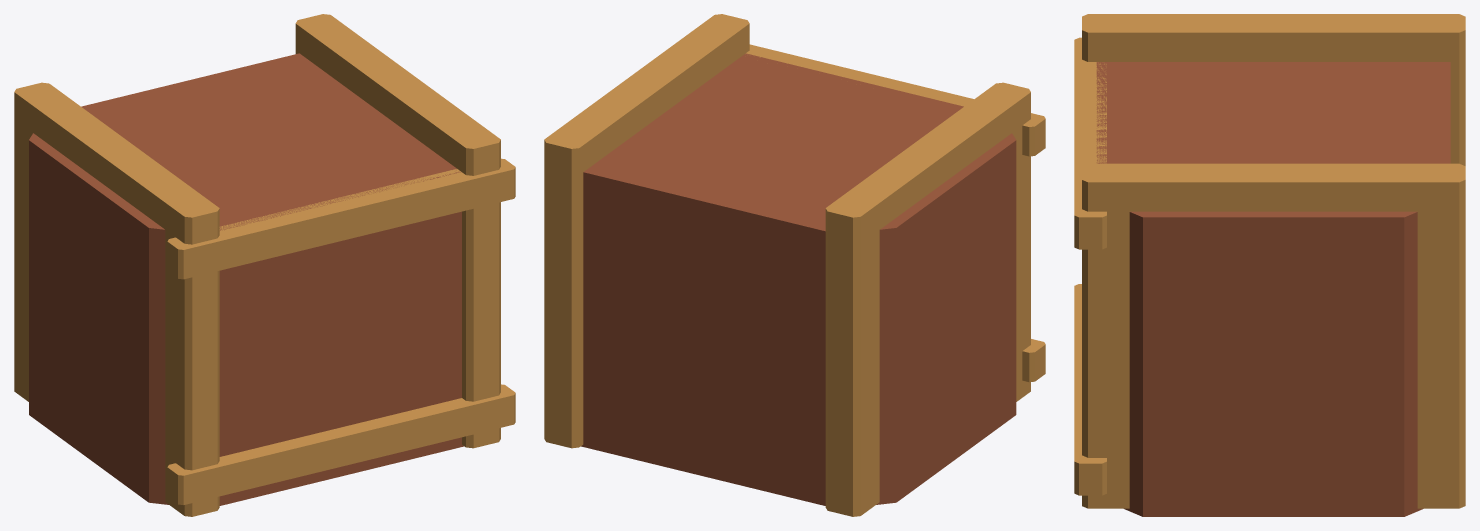
File: Crate.fbx
The picture shows the model from 3 angles, left to right: view 1: azimuth 30°, elevation 25°; view 2: azimuth 150°, elevation 25°; view 3: azimuth 270°, elevation 25°; orthographic projection. The views are drawn at different scales.
Parts seen in each view (by area): view 1: Crate.005; view 2: Crate.005; view 3: Crate.005.
Part boxes in pixels (box(x1,y1,x2,y2)): Crate.005: box(14, 14, 515, 516); Crate.005: box(544, 14, 1045, 516); Crate.005: box(1074, 14, 1465, 516).
Size of the model in its own units: 72 by 61.5 by 66.25.
